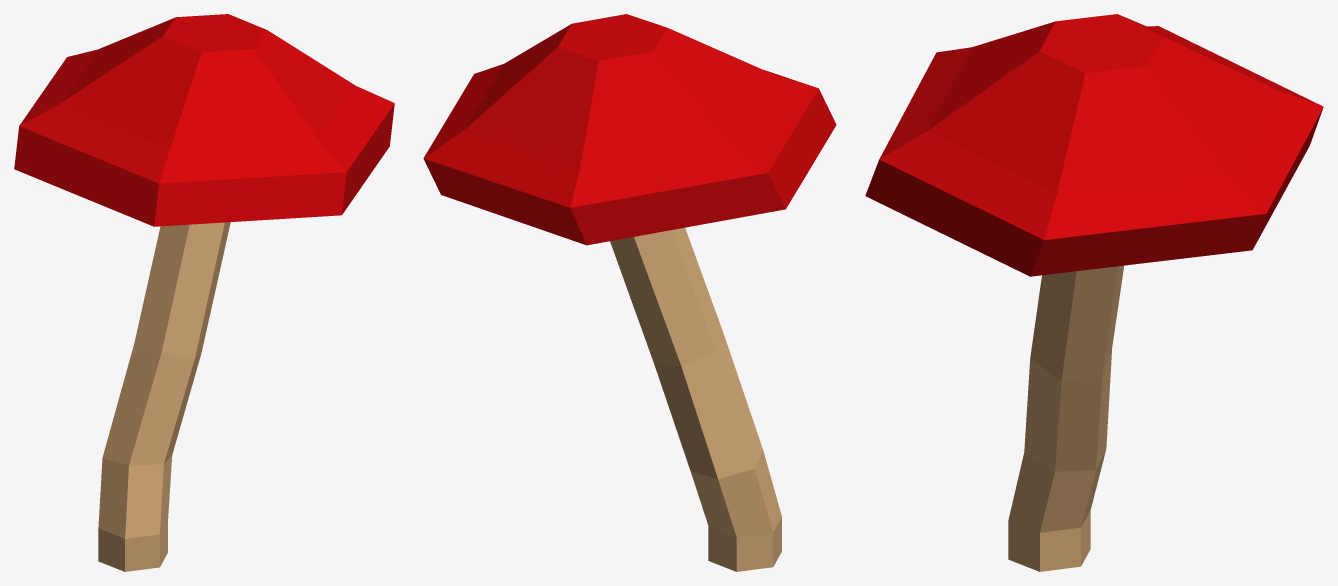
File: RedMushroomItem.fbx
The picture shows the model from 3 angles, left to right: view 1: azimuth 30°, elevation 25°; view 2: azimuth 150°, elevation 25°; view 3: azimuth 270°, elevation 25°; orthographic projection. The views are drawn at different scales.
Visible parts, largest first — view 1: Mushroom; view 2: Mushroom; view 3: Mushroom.
Boxes of the visible parts, x1=… form: Mushroom: x1=14, y1=14, x2=394, y2=571; Mushroom: x1=423, y1=14, x2=836, y2=571; Mushroom: x1=865, y1=14, x2=1323, y2=571.
Size of the model in its own units: 40.3 by 55.3 by 40.04.
